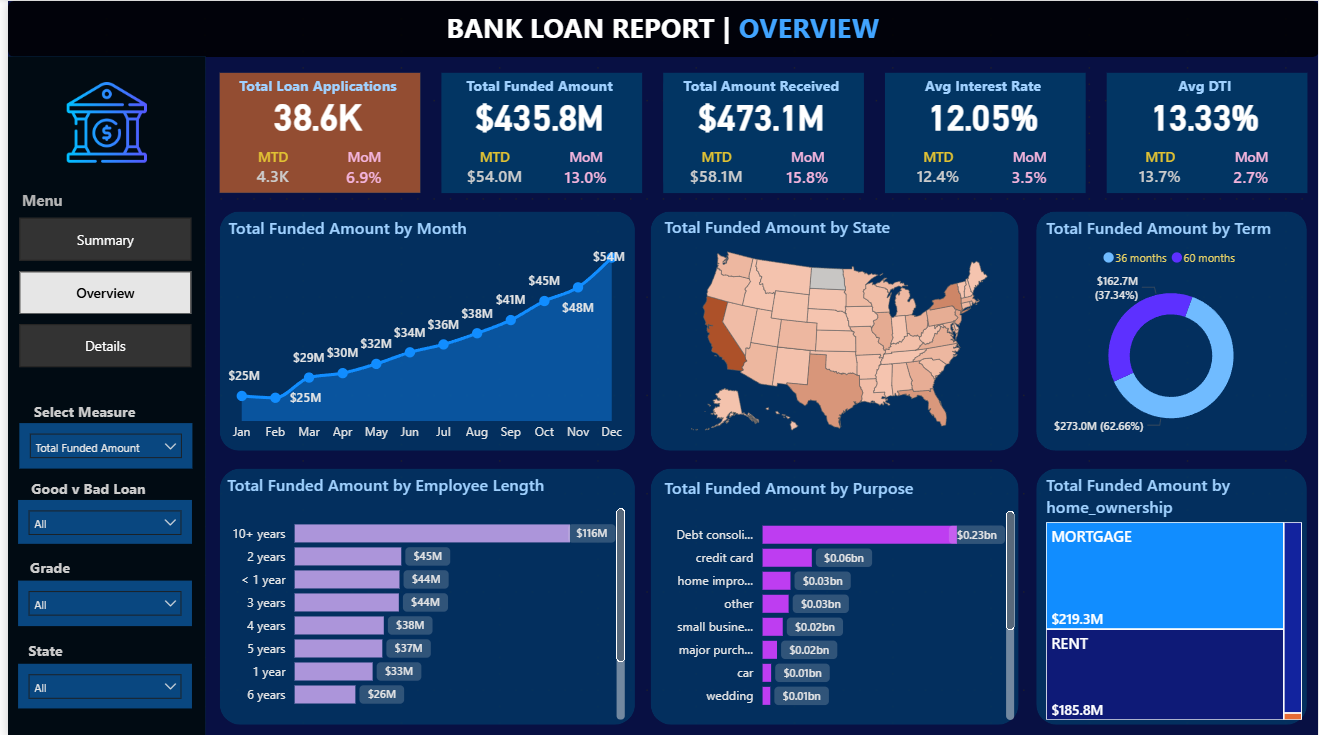

Layout of this report page (visuals, bound fields, positions):
{"tool":"powerbi","page":{"name":"Overview","canvas":[1280,720],"ordinal":1},"visuals":[{"type":"shape","box":[0,0,1280.5,54.6],"z":0},{"type":"group","id":"g1","title":"Group 1","box":[203.1,69.4,199.4,120.6],"z":0,"group":"g6"},{"type":"group","id":"g2","title":"Group 1","box":[419.5,69.4,199.4,120.6],"z":0,"group":"g7"},{"type":"group","id":"g3","title":"Group 1","box":[636,69.4,199.4,120.6],"z":0,"group":"g8"},{"type":"group","id":"g4","title":"Group 1","box":[852.6,69.4,199.4,120.6],"z":0,"group":"g9"},{"type":"group","id":"g5","title":"Group 1","box":[1069.1,69.4,199.4,120.6],"z":0,"group":"g10"},{"type":"textbox","box":[203.6,67.3,199.3,30.8],"z":1000,"group":"g6"},{"type":"textbox","box":[420,67.3,199.3,30.8],"z":1000,"group":"g7"},{"type":"textbox","box":[636.5,67.3,199.3,30.8],"z":1000,"group":"g8"},{"type":"textbox","box":[853.1,67.3,199.3,30.8],"z":1000,"group":"g9"},{"type":"textbox","box":[1069.6,67.3,199.3,30.8],"z":1000,"group":"g10"},{"type":"shape","box":[206.5,205.3,405.9,233.8],"z":1000},{"type":"textbox","box":[8.3,386.4,132.6,29],"z":1000,"group":"g19"},{"type":"textbox","box":[8.1,461.6,140,35.6],"z":1000,"group":"g16"},{"type":"textbox","box":[9.9,539.5,62.5,32.4],"z":1000,"group":"g17"},{"type":"textbox","box":[1.8,620.6,71.2,29.7],"z":1000,"group":"g18"},{"type":"shape","box":[627.8,205.3,359.6,233.8],"z":2000},{"type":"shape","box":[0,54.6,192.9,665.8],"z":3000},{"type":"shape","box":[206.5,69.4,195.9,117.2],"z":3000,"group":"g1"},{"type":"shape","box":[422.9,69.4,195.9,117.2],"z":3000,"group":"g2"},{"type":"shape","box":[639.4,69.4,195.9,117.2],"z":3000,"group":"g3"},{"type":"shape","box":[856,69.4,195.9,117.2],"z":3000,"group":"g4"},{"type":"shape","box":[1072.5,69.4,195.9,117.2],"z":3000,"group":"g5"},{"type":"shape","box":[0,54.6,192.9,665.8],"z":4000},{"type":"textbox","box":[403,2.1,474.5,45.6],"z":5000},{"type":"textbox","box":[69.7,8.1,158,40.7],"z":7000},{"type":"group","id":"g6","title":"Group 2","box":[203.1,67.3,199.8,122.6],"z":7000,"group":"g11"},{"type":"group","id":"g7","title":"Group 2","box":[419.5,67.3,199.8,122.6],"z":7000,"group":"g12"},{"type":"group","id":"g8","title":"Group 2","box":[636,67.3,199.8,122.6],"z":7000,"group":"g13"},{"type":"group","id":"g9","title":"Group 2","box":[852.6,67.3,199.8,122.6],"z":7000,"group":"g14"},{"type":"group","id":"g10","title":"Group 2","box":[1069.1,67.3,199.8,122.6],"z":7000,"group":"g15"},{"type":"group","id":"g11","title":"Group 3","box":[203.1,67.3,199.8,123.3],"z":8000},{"type":"card","fields":{"Values":["financial_loan.Total Loan Applications"]},"box":[203.1,88.3,199.3,45.5],"z":8000,"group":"g1"},{"type":"card","fields":{"Values":["financial_loan.Total Loan Amount"]},"box":[419.5,88.3,199.3,45.5],"z":8000,"group":"g2"},{"type":"card","fields":{"Values":["financial_loan.Total Amount Collection"]},"box":[636,88.3,199.3,45.5],"z":8000,"group":"g3"},{"type":"card","fields":{"Values":["financial_loan.Avg Interest Rate"]},"box":[852.6,88.3,199.3,45.5],"z":8000,"group":"g4"},{"type":"card","fields":{"Values":["financial_loan.Avg DTI"]},"box":[1069.1,88.3,199.3,45.5],"z":8000,"group":"g5"},{"type":"card","title":"MoM","fields":{"Values":["financial_loan.YOY Loan Applications"]},"box":[303.6,141.9,88.1,48.7],"z":8000,"group":"g11"},{"type":"card","title":"MoM","fields":{"Values":["financial_loan.YOY Loan Amount"]},"box":[520,141.9,88.1,48.7],"z":8000,"group":"g12"},{"type":"card","title":"MoM","fields":{"Values":["financial_loan.YOY Loan Collection"]},"box":[736.5,141.9,88.1,48.7],"z":8000,"group":"g13"},{"type":"card","title":"MoM","fields":{"Values":["financial_loan.YOY Int Rate"]},"box":[953.1,141.9,88.1,48.7],"z":8000,"group":"g14"},{"type":"card","title":"MoM","fields":{"Values":["financial_loan.YOY DTI"]},"box":[1169.6,141.9,88.1,48.7],"z":8000,"group":"g15"},{"type":"group","id":"g12","title":"Group 3","box":[419.5,67.3,199.9,123.3],"z":9000},{"type":"card","title":"MTD","fields":{"Values":["financial_loan.MTD Applications"]},"box":[209.8,142,99.3,48],"z":9000,"group":"g1"},{"type":"card","title":"MTD","fields":{"Values":["financial_loan.MTD Loan Amount"]},"box":[426.2,142,99.3,48],"z":9000,"group":"g2"},{"type":"card","title":"MTD","fields":{"Values":["financial_loan.MTD Loan Collection"]},"box":[642.7,142,99.3,48],"z":9000,"group":"g3"},{"type":"card","title":"MTD","fields":{"Values":["financial_loan.MTD Avg Int Rate"]},"box":[859.3,142,99.3,48],"z":9000,"group":"g4"},{"type":"card","title":"MTD","fields":{"Values":["financial_loan.MTD Avg DTI"]},"box":[1075.8,142,99.3,48],"z":9000,"group":"g5"},{"type":"group","id":"g13","title":"Group 3","box":[636,67.3,199.9,123.3],"z":10000},{"type":"group","id":"g14","title":"Group 3","box":[852.6,67.3,199.9,123.3],"z":11000},{"type":"group","id":"g15","title":"Group 3","box":[1069.1,67.3,199.9,123.3],"z":12000},{"type":"shape","box":[206.5,456.9,405.9,250.4],"z":13000},{"type":"image","box":[26.8,69.2,138.4,99.3],"z":14000},{"type":"areaChart","fields":{"Y":["financial_loan.Total Funded Amount"],"Category":["Date Table.Month"]},"box":[210.1,210.1,397.6,229],"z":15000},{"type":"shape","box":[1004,205.3,264.6,233.8],"z":16000},{"type":"slicer","fields":{"Values":["Select Measure.Select Measure"]},"box":[11.4,412.3,168.9,44.5],"z":17000},{"type":"shape","box":[627.8,456.9,359.6,250.4],"z":18000},{"type":"shape","box":[1004,456.9,264.6,250.4],"z":19000},{"type":"slicer","fields":{"Values":["financial_loan.Good v Bad Loan"]},"box":[10.1,487,169.7,43],"z":20000},{"type":"slicer","fields":{"Values":["financial_loan.grade"]},"box":[10.4,566.7,169.9,44.5],"z":21000},{"type":"slicer","fields":{"Values":["financial_loan.address_state"]},"box":[10,647.3,169.9,43.5],"z":22000},{"type":"group","id":"g16","title":"Group 2","box":[8.1,461.6,140,35.6],"z":23000},{"type":"group","id":"g17","title":"Group 2","box":[9.9,539.5,62.5,32.4],"z":24000},{"type":"group","id":"g18","title":"Group 2","box":[1.8,620.6,71.2,29.7],"z":25000},{"type":"pageNavigator","box":[11.4,211.4,168.6,147.3],"z":26000},{"type":"group","id":"g19","title":"Group 2","box":[8.3,386.4,132.6,29],"z":27000},{"type":"textbox","box":[8.3,180.3,157.5,34.2],"z":28000},{"type":"shapeMap","fields":{"Value":["financial_loan.Total Funded Amount"],"Category":["financial_loan.State"]},"box":[636.2,209.7,351.9,224.9],"z":29000},{"type":"donutChart","fields":{"Y":["financial_loan.Total Funded Amount"],"Category":["financial_loan.term"]},"box":[1009,210.9,254,223.7],"z":30000},{"type":"barChart","fields":{"Y":["financial_loan.Total Funded Amount"],"Category":["financial_loan.emp_length"]},"box":[209.7,461.4,398.5,245.8],"z":31000},{"type":"barChart","fields":{"Y":["financial_loan.Total Funded Amount"],"Category":["financial_loan.purpose"]},"box":[636.2,463.7,351.9,243.5],"z":32000},{"type":"treemap","fields":{"Values":["financial_loan.Total Funded Amount"],"Group":["financial_loan.home_ownership"]},"box":[1009,461.4,259.8,245.8],"z":33000}]}

Visuals, with their boxes in screenshot pixels (x1, y1, x2, y2), scaled from the page's 1280x720 canvas onto the 1319x735 screenshot:
shape: 0 0 1318 56
"Group 1" group: 209 71 415 194
"Group 1" group: 432 71 638 194
"Group 1" group: 655 71 861 194
"Group 1" group: 879 71 1084 194
"Group 1" group: 1102 71 1307 194
textbox: 210 69 415 100
textbox: 433 69 638 100
textbox: 656 69 861 100
textbox: 879 69 1084 100
textbox: 1102 69 1308 100
shape: 213 210 631 448
textbox: 9 394 145 424
textbox: 8 471 153 508
textbox: 10 551 75 584
textbox: 2 634 75 664
shape: 647 210 1017 448
shape: 0 56 199 734
shape: 213 71 415 190
shape: 436 71 638 190
shape: 659 71 861 190
shape: 882 71 1084 190
shape: 1105 71 1307 190
shape: 0 56 199 734
textbox: 415 2 904 49
textbox: 72 8 235 50
"Group 2" group: 209 69 415 194
"Group 2" group: 432 69 638 194
"Group 2" group: 655 69 861 194
"Group 2" group: 879 69 1084 194
"Group 2" group: 1102 69 1308 194
"Group 3" group: 209 69 415 195
card - financial_loan.Total Loan Applications: 209 90 415 137
card - financial_loan.Total Loan Amount: 432 90 638 137
card - financial_loan.Total Amount Collection: 655 90 861 137
card - financial_loan.Avg Interest Rate: 879 90 1084 137
card - financial_loan.Avg DTI: 1102 90 1307 137
"MoM" card: 313 145 404 195
"MoM" card: 536 145 627 195
"MoM" card: 759 145 850 195
"MoM" card: 982 145 1073 195
"MoM" card: 1205 145 1296 195
"Group 3" group: 432 69 638 195
"MTD" card: 216 145 319 194
"MTD" card: 439 145 542 194
"MTD" card: 662 145 765 194
"MTD" card: 885 145 988 194
"MTD" card: 1109 145 1211 194
"Group 3" group: 655 69 861 195
"Group 3" group: 879 69 1085 195
"Group 3" group: 1102 69 1308 195
shape: 213 466 631 722
image: 28 71 170 172
areaChart - financial_loan.Total Funded Amount x Date Table.Month: 217 214 626 448
shape: 1035 210 1307 448
slicer - Select Measure.Select Measure: 12 421 186 466
shape: 647 466 1017 722
shape: 1035 466 1307 722
slicer - financial_loan.Good v Bad Loan: 10 497 185 541
slicer - financial_loan.grade: 11 579 186 624
slicer - financial_loan.address_state: 10 661 185 705
"Group 2" group: 8 471 153 508
"Group 2" group: 10 551 75 584
"Group 2" group: 2 634 75 664
pageNavigator: 12 216 185 366
"Group 2" group: 9 394 145 424
textbox: 9 184 171 219
shapeMap - financial_loan.Total Funded Amount x financial_loan.State: 656 214 1018 444
donutChart - financial_loan.Total Funded Amount x financial_loan.term: 1040 215 1301 444
barChart - financial_loan.Total Funded Amount x financial_loan.emp_length: 216 471 627 722
barChart - financial_loan.Total Funded Amount x financial_loan.purpose: 656 473 1018 722
treemap - financial_loan.Total Funded Amount x financial_loan.home_ownership: 1040 471 1307 722
